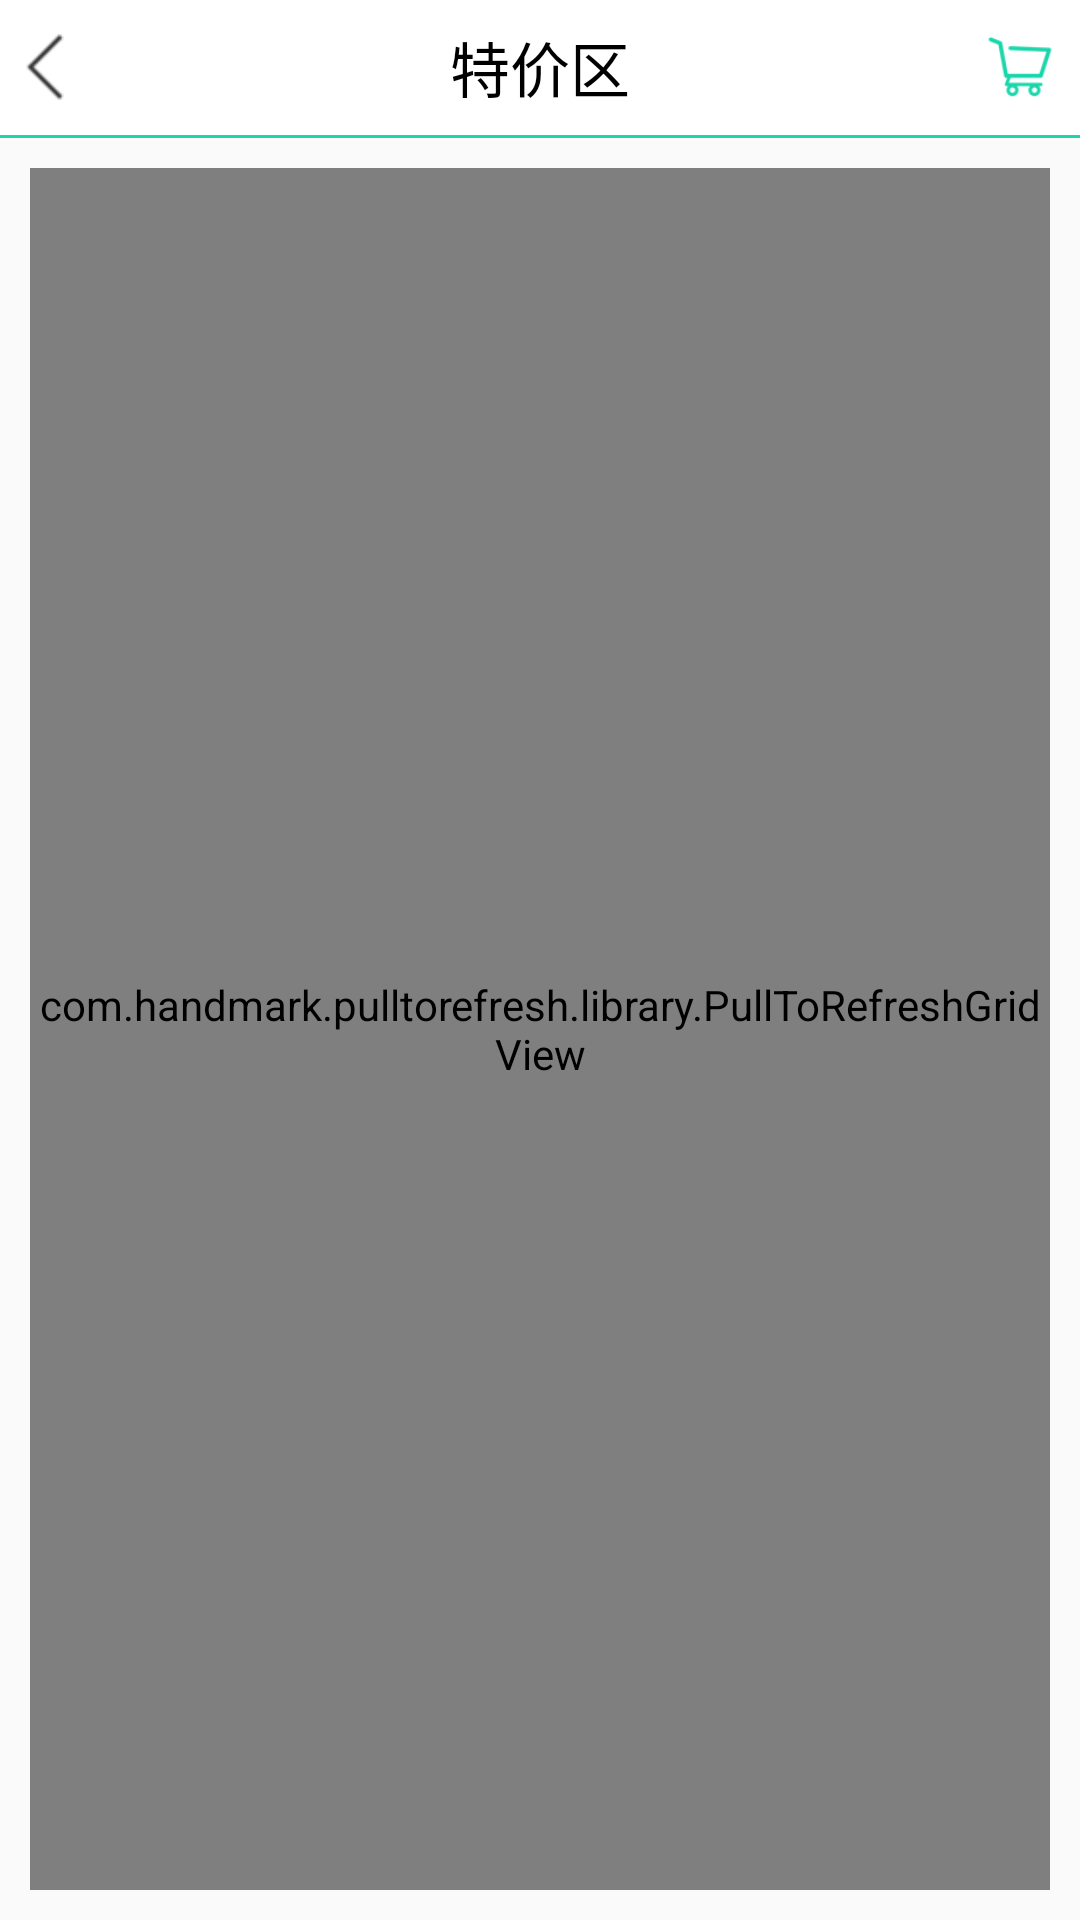

Icon click points for this 1080*1920 phone screenshot, format [x,y]:
back: [45,67]
shoppingcart: [1020,67]
